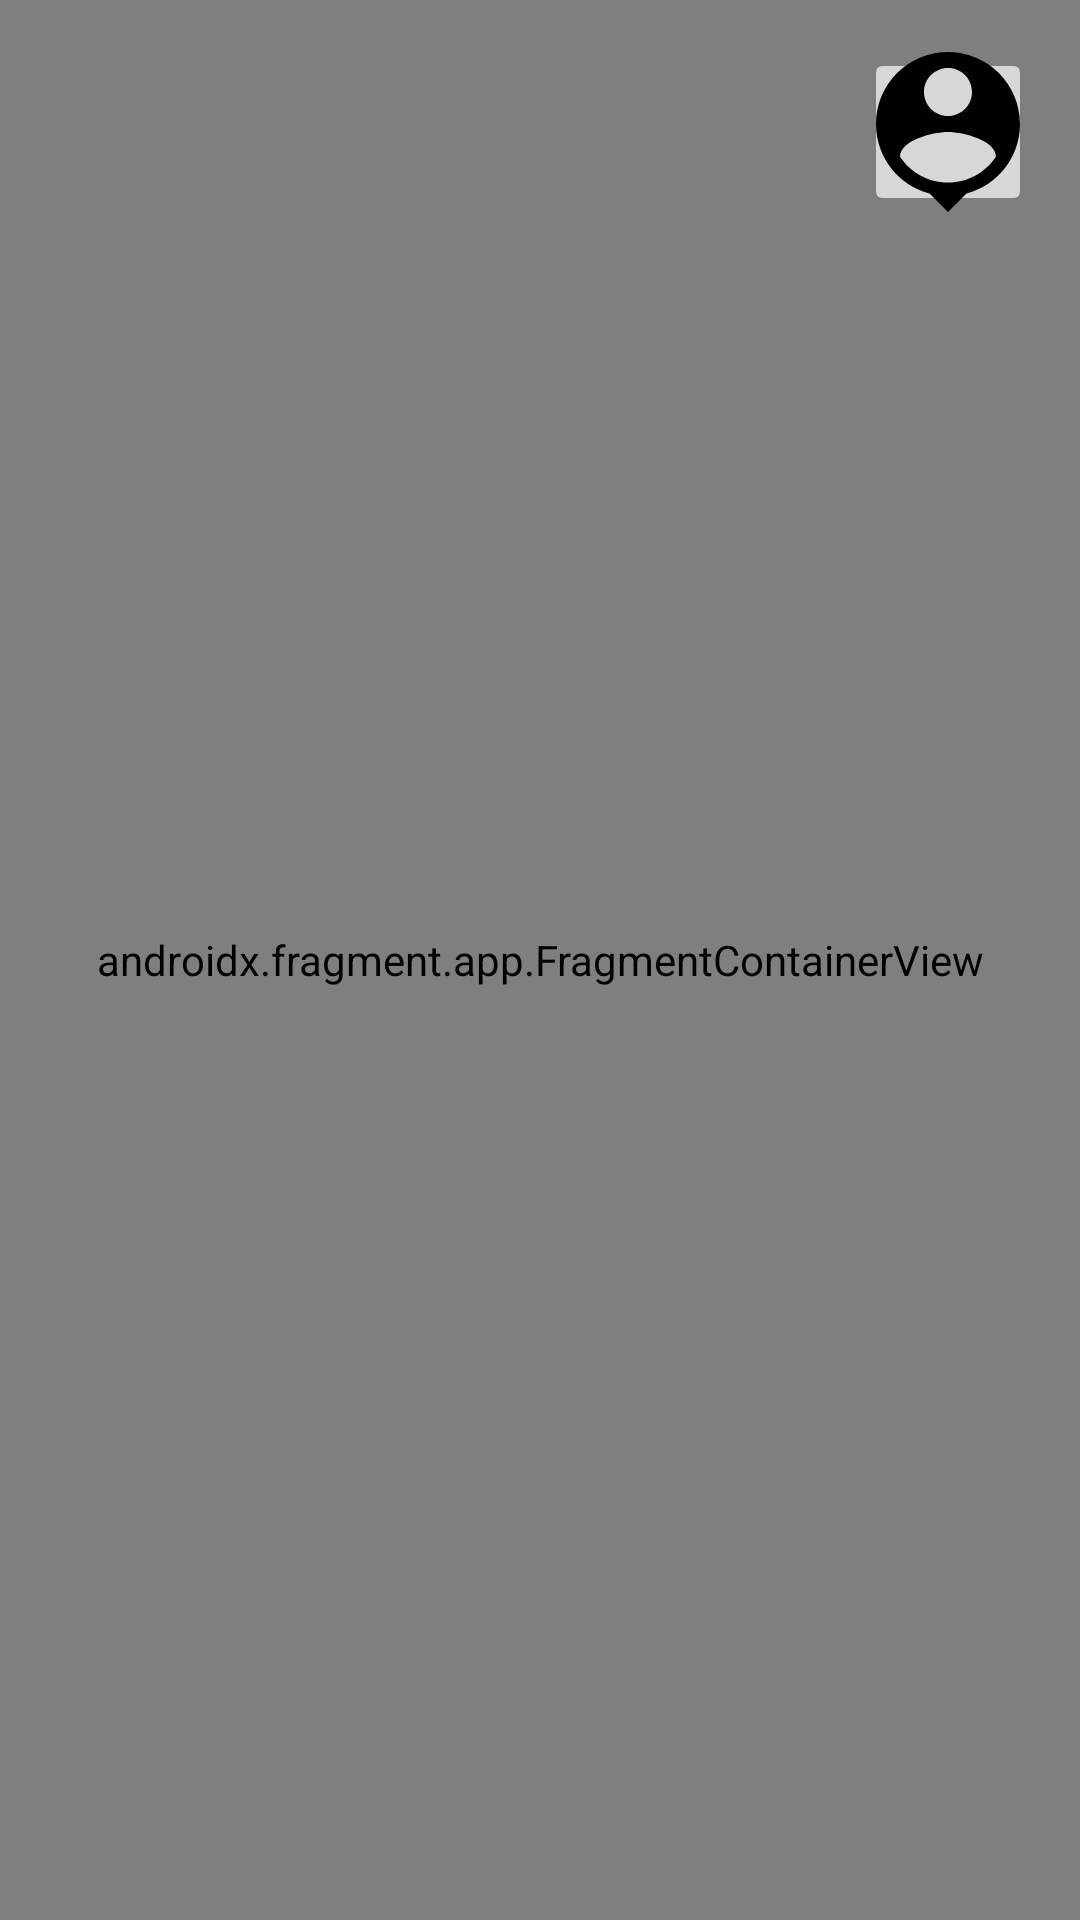

Icon bounding boxes for this 1080 x 1920 phone screenshot, format (x1, y1, x2, y2):
Profile: (876, 52, 1020, 212)
